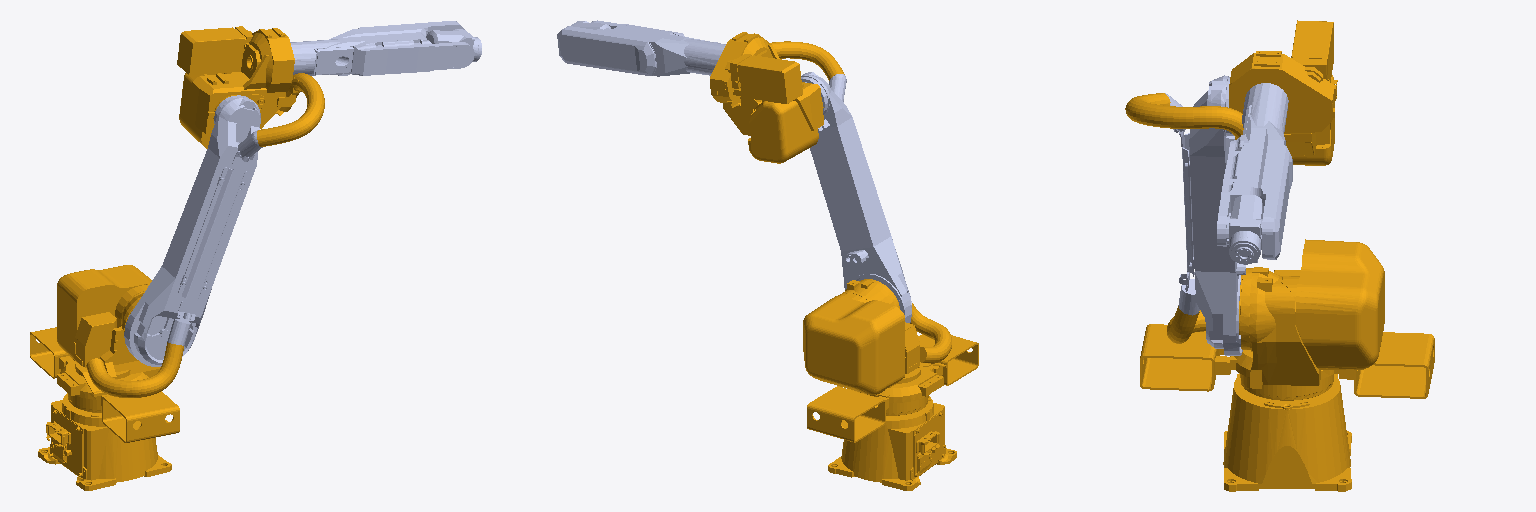
URDF robot description (M-20iA35M_URDF_final):
<?xml version="1.0" encoding="utf-8"?>
<!-- This URDF was automatically created by SolidWorks to URDF Exporter! Originally created by Stephen Brawner (brawner@gmail.com) 
     Commit Version: 1.6.0-4-g7f85cfe  Build Version: 1.6.7995.38578
     For more information, please see http://wiki.ros.org/sw_urdf_exporter -->
<robot
  name="M-20iA35M_URDF_final">
  <link
    name="base_link">
    <inertial>
      <origin
        xyz="0.00266170807940261 0.000141008612470534 0.140256917527808"
        rpy="0 0 0" />
      <mass
        value="185.626805408531" />
      <inertia
        ixx="2.58771207398431"
        ixy="0.00370675153243079"
        ixz="0.0258388656853941"
        iyy="2.64050590916559"
        iyz="0.00163008445158766"
        izz="2.40776114855991" />
    </inertial>
    <visual>
      <origin
        xyz="0 0 0"
        rpy="0 0 0" />
      <geometry>
        <mesh
          filename="package://M-20iA35M_URDF_final/meshes/base_link.STL" />
      </geometry>
      <material
        name="">
        <color
          rgba="0.941176470588235 0.674509803921569 0.117647058823529 1" />
      </material>
    </visual>
    <collision>
      <origin
        xyz="0 0 0"
        rpy="0 0 0" />
      <geometry>
        <mesh
          filename="package://M-20iA35M_URDF_final/meshes/base_link.STL" />
      </geometry>
    </collision>
  </link>
  <link
    name="Link_1">
    <inertial>
      <origin
        xyz="0.0702356849851005 0.0631669791280642 0.468996729772983"
        rpy="0 0 0" />
      <mass
        value="300.194347095722" />
      <inertia
        ixx="4.39127988143457"
        ixy="0.0164944302520405"
        ixz="-0.603778091899895"
        iyy="4.36794126881693"
        iyz="-0.170131058496114"
        izz="4.87422468370764" />
    </inertial>
    <visual>
      <origin
        xyz="0 0 0"
        rpy="0 0 0" />
      <geometry>
        <mesh
          filename="package://M-20iA35M_URDF_final/meshes/Link_1.STL" />
      </geometry>
      <material
        name="">
        <color
          rgba="0.941176470588235 0.674509803921569 0.117647058823529 1" />
      </material>
    </visual>
    <collision>
      <origin
        xyz="0 0 0"
        rpy="0 0 0" />
      <geometry>
        <mesh
          filename="package://M-20iA35M_URDF_final/meshes/Link_1.STL" />
      </geometry>
    </collision>
  </link>
  <joint
    name="theta_1"
    type="revolute">
    <origin
      xyz="0 0 0"
      rpy="0 0 0" />
    <parent
      link="base_link" />
    <child
      link="Link_1" />
    <axis
      xyz="0 0 1" />
    <limit
      lower="0"
      upper="0"
      effort="0"
      velocity="0" />
  </joint>
  <link
    name="Link_2">
    <inertial>
      <origin
        xyz="0.149099475634361 0.375092878380265 0.168859822001182"
        rpy="0 0 0" />
      <mass
        value="113.625293143253" />
      <inertia
        ixx="6.68311193265569"
        ixy="-2.48737955595147"
        ixz="0.01748213931232"
        iyy="1.41903418185771"
        iyz="0.0456092827009326"
        izz="7.75501080625973" />
    </inertial>
    <visual>
      <origin
        xyz="0 0 0"
        rpy="0 0 0" />
      <geometry>
        <mesh
          filename="package://M-20iA35M_URDF_final/meshes/Link_2.STL" />
      </geometry>
      <material
        name="">
        <color
          rgba="0.796078431372549 0.823529411764706 0.937254901960784 1" />
      </material>
    </visual>
    <collision>
      <origin
        xyz="0 0 0"
        rpy="0 0 0" />
      <geometry>
        <mesh
          filename="package://M-20iA35M_URDF_final/meshes/Link_2.STL" />
      </geometry>
    </collision>
  </link>
  <joint
    name="theta_2"
    type="revolute">
    <origin
      xyz="0.149499015882567 -0.0122492550884645 0.524999999999904"
      rpy="1.5707963267949 0 -0.0817527360312907" />
    <parent
      link="Link_1" />
    <child
      link="Link_2" />
    <axis
      xyz="0 0 1" />
    <limit
      lower="0"
      upper="0"
      effort="0"
      velocity="0" />
  </joint>
  <link
    name="Link_3">
    <inertial>
      <origin
        xyz="0.0999783957577378 -0.045299623888673 -0.0153900952229181"
        rpy="0 0 0" />
      <mass
        value="123.095309437663" />
      <inertia
        ixx="2.16237081526655"
        ixy="0.309760892104397"
        ixz="0.101764184310904"
        iyy="2.21760997164009"
        iyz="0.298559197626443"
        izz="1.58477149132959" />
    </inertial>
    <visual>
      <origin
        xyz="0 0 0"
        rpy="0 0 0" />
      <geometry>
        <mesh
          filename="package://M-20iA35M_URDF_final/meshes/Link_3.STL" />
      </geometry>
      <material
        name="">
        <color
          rgba="0.941176470588235 0.674509803921569 0.117647058823529 1" />
      </material>
    </visual>
    <collision>
      <origin
        xyz="0 0 0"
        rpy="0 0 0" />
      <geometry>
        <mesh
          filename="package://M-20iA35M_URDF_final/meshes/Link_3.STL" />
      </geometry>
    </collision>
  </link>
  <joint
    name="theta_3"
    type="revolute">
    <origin
      xyz="0.291906970178036 0.734091493453943 0"
      rpy="0 0 1.19232275936331" />
    <parent
      link="Link_2" />
    <child
      link="Link_3" />
    <axis
      xyz="0 0 1" />
    <limit
      lower="0"
      upper="0"
      effort="0"
      velocity="0" />
  </joint>
  <link
    name="Link_4">
    <inertial>
      <origin
        xyz="-7.60726554129842E-05 -0.0128846501027914 0.585472805261112"
        rpy="0 0 0" />
      <mass
        value="68.3376928925673" />
      <inertia
        ixx="1.99390603778058"
        ixy="0.000159441314358275"
        ixz="-0.000854838507985959"
        iyy="1.99361434358089"
        iyz="0.161864962796074"
        izz="0.16180684064358" />
    </inertial>
    <visual>
      <origin
        xyz="0 0 0"
        rpy="0 0 0" />
      <geometry>
        <mesh
          filename="package://M-20iA35M_URDF_final/meshes/Link_4.STL" />
      </geometry>
      <material
        name="">
        <color
          rgba="0.796078431372549 0.823529411764706 0.937254901960784 1" />
      </material>
    </visual>
    <collision>
      <origin
        xyz="0 0 0"
        rpy="0 0 0" />
      <geometry>
        <mesh
          filename="package://M-20iA35M_URDF_final/meshes/Link_4.STL" />
      </geometry>
    </collision>
  </link>
  <joint
    name="theta_4"
    type="revolute">
    <origin
      xyz="0.145224641452102 0.0375473503074232 0"
      rpy="1.5707963267949 0 0.253006290119125" />
    <parent
      link="Link_3" />
    <child
      link="Link_4" />
    <axis
      xyz="0 0 1" />
    <limit
      lower="0"
      upper="0"
      effort="0"
      velocity="0" />
  </joint>
  <link
    name="Link_5">
    <inertial>
      <origin
        xyz="0.00383156830303633 -0.00138344182233063 0.00203233199248619"
        rpy="0 0 0" />
      <mass
        value="9.96059555684517" />
      <inertia
        ixx="0.0291415549005696"
        ixy="-0.00296439705455264"
        ixz="1.59164185672608E-05"
        iyy="0.0125254311497853"
        iyz="-0.000176032213935487"
        izz="0.0298630777384601" />
    </inertial>
    <visual>
      <origin
        xyz="0 0 0"
        rpy="0 0 0" />
      <geometry>
        <mesh
          filename="package://M-20iA35M_URDF_final/meshes/Link_5.STL" />
      </geometry>
      <material
        name="">
        <color
          rgba="0.796078431372549 0.823529411764706 0.937254901960784 1" />
      </material>
    </visual>
    <collision>
      <origin
        xyz="0 0 0"
        rpy="0 0 0" />
      <geometry>
        <mesh
          filename="package://M-20iA35M_URDF_final/meshes/Link_5.STL" />
      </geometry>
    </collision>
  </link>
  <joint
    name="theta_5"
    type="revolute">
    <origin
      xyz="0 0 0.860000000000003"
      rpy="-1.5707963267949 0 0.000687076517143853" />
    <parent
      link="Link_4" />
    <child
      link="Link_5" />
    <axis
      xyz="0 0 1" />
    <limit
      lower="0"
      upper="0"
      effort="0"
      velocity="0" />
  </joint>
  <link
    name="Link_6">
    <inertial>
      <origin
        xyz="2.11501129407932E-05 3.71130167902903E-05 0.0917515793813908"
        rpy="0 0 0" />
      <mass
        value="0.204774692110219" />
      <inertia
        ixx="3.85914415942713E-05"
        ixy="7.54191454281079E-08"
        ixz="-2.27311689306353E-08"
        iyy="3.86807980820017E-05"
        iyz="-3.98868695957978E-08"
        izz="7.01434171187614E-05" />
    </inertial>
    <visual>
      <origin
        xyz="0 0 0"
        rpy="0 0 0" />
      <geometry>
        <mesh
          filename="package://M-20iA35M_URDF_final/meshes/Link_6.STL" />
      </geometry>
      <material
        name="">
        <color
          rgba="0.796078431372549 0.823529411764706 0.937254901960784 1" />
      </material>
    </visual>
    <collision>
      <origin
        xyz="0 0 0"
        rpy="0 0 0" />
      <geometry>
        <mesh
          filename="package://M-20iA35M_URDF_final/meshes/Link_6.STL" />
      </geometry>
    </collision>
  </link>
  <joint
    name="theta_6"
    type="revolute">
    <origin
      xyz="0 0 0"
      rpy="1.5707963267949 0 -0.152414968671932" />
    <parent
      link="Link_5" />
    <child
      link="Link_6" />
    <axis
      xyz="0 0 1" />
    <limit
      lower="0"
      upper="0"
      effort="0"
      velocity="0" />
  </joint>
</robot>

--- Render facts (derived) ---
Views: 3 orthographic renders of the robot side by side, from view 1: azimuth 30°, elevation 25°; view 2: azimuth 150°, elevation 25°; view 3: azimuth 270°, elevation 25°.
Model M-20iA35M_URDF_final with 7 links and 6 joints (6 revolute), rooted at base_link, posed all joints at 0.
Visible links, largest first — view 1: Link_1, Link_2, Link_3, Link_4, base_link, Link_5; view 2: Link_1, Link_3, Link_2, base_link, Link_4; view 3: Link_1, base_link, Link_3, Link_2, Link_4, Link_5.
Link boxes in pixels (left/top/right/bottom): Link_1: left=30, top=265, right=183, bottom=442; Link_2: left=124, top=95, right=262, bottom=366; Link_3: left=177, top=26, right=324, bottom=148; Link_4: left=290, top=21, right=474, bottom=75; base_link: left=38, top=393, right=171, bottom=490; Link_5: left=426, top=29, right=481, bottom=61; Link_1: left=803, top=279, right=978, bottom=442; Link_3: left=710, top=32, right=844, bottom=163; Link_2: left=801, top=72, right=911, bottom=322; base_link: left=828, top=395, right=956, bottom=490; Link_4: left=557, top=20, right=725, bottom=76; Link_1: left=1140, top=239, right=1434, bottom=398; base_link: left=1223, top=373, right=1351, bottom=491; Link_3: left=1125, top=20, right=1337, bottom=165; Link_2: left=1165, top=75, right=1257, bottom=355; Link_4: left=1217, top=83, right=1292, bottom=259; Link_5: left=1227, top=195, right=1262, bottom=264.
Size in the robot's own frame: 1.6 by 0.8282 by 1.5 metres.
7 mesh visuals loaded from 7 distinct referenced files (7 binary STL).
